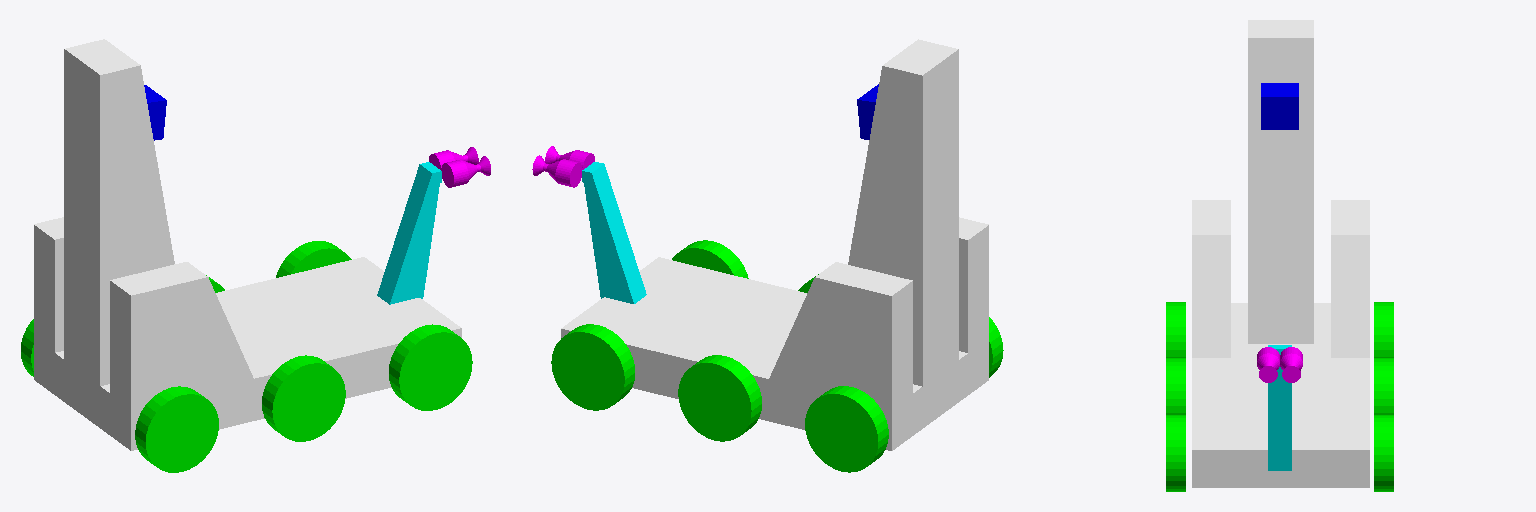
robot.urdf — bosmat_low:
<?xml version="1.0"?>

<robot name="bosmat_low" xmlns:xacro="http://www.ros.org/wiki/xacro">

	<material name="black">
		<color rgba="0 0 0 1"/>
	</material>

	<material name="white">
		<color rgba="1 1 1 1"/>
	</material>

	<material name="red">
		<color rgba="1 0 0 1"/>
	</material>

	<material name="green">
		<color rgba="0 1 0 1"/>
	</material>

	<material name="blue">
		<color rgba="0 0 1 1"/>
	</material>

	<material name="magenta">
		<color rgba="1 0 1 1"/>
	</material>

	<material name="cyan">
		<color rgba="0 1 1 1"/>
	</material>

	<material name="yellow">
		<color rgba="1 1 0 1"/>
	</material>


	<link name="base_link">
		<visual>
			<origin xyz="-0.45 -0.23 -0.05" rpy="1.5707963268 0 1.5707963268" />
			<geometry>
				<mesh filename="package://bosmat_description/meshes/low_detail/robot_base.STL" scale="0.001 0.001 0.001"/>
			</geometry>
			<material name="white"/>
		</visual>

		<collision>
			<origin xyz="-0.45 -0.23 0" rpy="1.5707963268 0 1.5707963268" />
			<geometry>
				<mesh filename="package://bosmat_description/meshes/low_detail/robot_base.STL" scale="0.001 0.001 0.001"/>
			</geometry>
		</collision>

		<inertial>
		  <mass value="10.0"/>
		  <inertia ixx="1.0" iyy="1.0" izz="1.0" ixy="0.0" ixz="0.0" iyz="0.0"/>
		</inertial>
	</link>

	<link name="left_center_wheel">
		<visual>
			<geometry>
				<cylinder length="0.05" radius="0.1"/>
			</geometry>
			<origin rpy="1.5707963268 0 0" xyz="0 0 0"/>
			<material name="green"/>
		</visual>

		<collision>
			<geometry>
				<cylinder length="0.05" radius="0.1"/>
			</geometry>
			<origin rpy="1.5707963268 0 0" xyz="0.23 0 0"/>
		</collision>

		<inertial>
			<mass value="0.5"/>
			<inertia ixx="0.1" iyy="0.1" izz="0.1" ixy="0.0" ixz="0.0" iyz="0.0"/>
		</inertial>
	</link>

	<joint name="left_center_wheel_to_base_link" type="continuous">
		<parent link="base_link"/>
		<child link="left_center_wheel"/>
		<origin xyz="0 0.27 0" rpy="0 0 0"/>
		<axis xyz="0 1 0"/>
	</joint>

    <link name="left_front_wheel">
		<visual>
			<geometry>
				<cylinder length="0.05" radius="0.1"/>
			</geometry>
			<origin rpy="1.5707963268 0 0" xyz="0 0 0"/>
			<material name="green"/>
		</visual>

		<collision>
			<geometry>
				<cylinder length="0.05" radius="0.1"/>
			</geometry>
			<origin rpy="1.5707963268 0 0" xyz="0.23 0 0"/>
		</collision>

		<inertial>
			<mass value="0.5"/>
			<inertia ixx="0.1" iyy="0.1" izz="0.1" ixy="0.0" ixz="0.0" iyz="0.0"/>
		</inertial>
	</link>

    <joint name="left_front_wheel_to_base_link" type="continuous">
		<parent link="base_link"/>
		<child link="left_front_wheel"/>
		<origin xyz="0.345 0.27 0" rpy="0 0 0"/>
		<axis xyz="0 1 0"/>
    </joint>

    <link name="left_back_wheel">
		<visual>
			<geometry>
				<cylinder length="0.05" radius="0.1"/>
			</geometry>
			<origin rpy="1.5707963268 0 0" xyz="0 0 0"/>
			<material name="green"/>
		</visual>

		<collision>
			<geometry>
				<cylinder length="0.05" radius="0.1"/>
			</geometry>
			<origin rpy="1.5707963268 0 0" xyz="0.23 0 0"/>
		</collision>

		<inertial>
			<mass value="0.5"/>
			<inertia ixx="0.1" iyy="0.1" izz="0.1" ixy="0.0" ixz="0.0" iyz="0.0"/>
		</inertial>
	</link>

    <joint name="left_back_wheel_to_base_link" type="continuous">
		<parent link="base_link"/>
		<child link="left_back_wheel"/>
		<origin xyz="-0.345 0.27 0" rpy="0 0 0"/>
		<axis xyz="0 1 0"/>
    </joint>

<link name="right_center_wheel">
		<visual>
			<geometry>
				<cylinder length="0.05" radius="0.1"/>
			</geometry>
			<origin rpy="1.5707963268 0 0" xyz="0 0 0"/>
			<material name="green"/>
		</visual>

		<collision>
			<geometry>
				<cylinder length="0.05" radius="0.1"/>
			</geometry>
			<origin rpy="1.5707963268 0 0" xyz="0.23 0 0"/>
		</collision>

		<inertial>
			<mass value="0.5"/>
			<inertia ixx="0.1" iyy="0.1" izz="0.1" ixy="0.0" ixz="0.0" iyz="0.0"/>
		</inertial>
	</link>

	<joint name="right_center_wheel_to_base_link" type="continuous">
		<parent link="base_link"/>
		<child link="right_center_wheel"/>
		<origin xyz="0 -0.27 0" rpy="0 0 0"/>
		<axis xyz="0 1 0"/>
	</joint>

    <link name="right_front_wheel">
		<visual>
			<geometry>
				<cylinder length="0.05" radius="0.1"/>
			</geometry>
			<origin rpy="1.5707963268 0 0" xyz="0 0 0"/>
			<material name="green"/>
		</visual>

		<collision>
			<geometry>
				<cylinder length="0.05" radius="0.1"/>
			</geometry>
			<origin rpy="1.5707963268 0 0" xyz="0.23 0 0"/>
		</collision>

		<inertial>
			<mass value="0.5"/>
			<inertia ixx="0.1" iyy="0.1" izz="0.1" ixy="0.0" ixz="0.0" iyz="0.0"/>
		</inertial>
	</link>

    <joint name="right_front_wheel_to_base_link" type="continuous">
		<parent link="base_link"/>
		<child link="right_front_wheel"/>
		<origin xyz="0.345 -0.27 0" rpy="0 0 0"/>
		<axis xyz="0 1 0"/>
    </joint>

    <link name="right_back_wheel">
		<visual>
			<geometry>
				<cylinder length="0.05" radius="0.1"/>
			</geometry>
			<origin rpy="1.5707963268 0 0" xyz="0 0 0"/>
			<material name="green"/>
		</visual>

		<collision>
			<geometry>
				<cylinder length="0.05" radius="0.1"/>
			</geometry>
			<origin rpy="1.5707963268 0 0" xyz="0.23 0 0"/>
		</collision>

		<inertial>
			<mass value="0.5"/>
			<inertia ixx="0.1" iyy="0.1" izz="0.1" ixy="0.0" ixz="0.0" iyz="0.0"/>
		</inertial>
	</link>

    <joint name="right_back_wheel_to_base_link" type="continuous">
		<parent link="base_link"/>
		<child link="right_back_wheel"/>
		<origin xyz="-0.345 -0.27 0" rpy="0 0 0"/>
		<axis xyz="0 1 0"/>
    </joint>

	<link name="shiri_body">
		<visual>
			<origin xyz="0 -0.03 0" rpy="1.5707963268 0 1.5707963268" />
			<geometry>
				<mesh filename="package://bosmat_description/meshes/low_detail/shiri_body_low_detail.STL"/>
			</geometry>
			<material name="cyan"/>
		</visual>

		<inertial>
			<mass value="2.0"/>
			<inertia ixx="0.1" iyy="0.1" izz="0.1" ixy="0.0" ixz="0.0" iyz="0.0"/>
		</inertial>
	</link>

    <joint name="shiri_body_to_base_link" type="prismatic">
		<parent link="base_link"/>
		<child link="shiri_body"/>
		<origin xyz="0.35 0 0" rpy="0 0 0"/>
		<limit effort="1000.0" velocity="1.0" lower="-0.2" upper="0"/>
		<axis xyz="1 0 0"/>
    </joint>

	<link name="shiri_left_finger">
		<visual>
			<origin xyz="0.105 -0.03 -0.03" rpy="0 -1.5707963268 0" />
			<geometry>
				<mesh filename="package://bosmat_description/meshes/low_detail/shiri_finger_low_detail.STL"/>
			</geometry>
			<material name="magenta"/>
		</visual>

		<collision>
			<geometry>
				<mesh filename="package://bosmat_description/meshes/low_detail/shiri_finger_low_detail.STL"/>
			</geometry>
			<origin xyz="0.105 -0.03 -0.03" rpy="0 -1.5707963268 0" />
		</collision>

		<inertial>
		  <mass value="0.1"/>
		  <inertia ixx="0.01" iyy="0.01" izz="0.01" ixy="0.0" ixz="0.0" iyz="0.0"/>
		</inertial>
	</link>

    <joint name="shiri_left_finger_to_body" type="prismatic">
		<parent link="shiri_body"/>
		<child link="shiri_left_finger"/>
		<origin xyz="0.18 0.03 0.36" rpy="0 0 0"/>
		<limit effort="1000.0" velocity="1.0" lower="0" upper="0.03"/>
		<axis xyz="0 1 0"/>
    </joint>

	<link name="shiri_right_finger">
		<visual>
			<origin xyz="0.105 -0.03 -0.03" rpy="0 -1.5707963268 0" />
			<geometry>
				<mesh filename="package://bosmat_description/meshes/low_detail/shiri_finger_low_detail.STL"/>
			</geometry>
			<material name="magenta"/>
		</visual>

		<collision>
			<geometry>
				<mesh filename="package://bosmat_description/meshes/low_detail/shiri_finger_low_detail.STL"/>
			</geometry>
			<origin xyz="0.105 -0.03 -0.03" rpy="0 -1.5707963268 0" />
		</collision>

		<inertial>
		  <mass value="0.1"/>
		  <inertia ixx="0.01" iyy="0.01" izz="0.01" ixy="0.0" ixz="0.0" iyz="0.0"/>
		</inertial>
	</link>

    <joint name="shiri_right_finger_to_body" type="prismatic">
		<parent link="shiri_body"/>
		<child link="shiri_right_finger"/>
		<origin xyz="0.18 -0.03 0.36" rpy="3.1415926536 0 0"/>
		<limit effort="1000.0" velocity="1.0" lower="0" upper="0.03"/>
		<axis xyz="0 1 0"/>
    </joint>

	<link name="astra_camera">
		<visual>
			<origin xyz="0 0 0" rpy="-1.5707963268 0 1.5707963268" />
			<geometry>
				<box size="0.1 0.1 0.1"/>
			</geometry>
			<material name="blue"/>
		</visual>

		<inertial>
		  <mass value="0.1"/>
		  <inertia ixx="0.01" iyy="0.01" izz="0.01" ixy="0.0" ixz="0.0" iyz="0.0"/>
		</inertial>
	</link>

    <joint name="astra_camera_to_base_link" type="fixed">
		<parent link="base_link"/>
		<child link="astra_camera"/>
		<origin xyz="-0.3 0 0.7" rpy="-1.6707963268 0 -1.5707963268"/>
    </joint>

<!-- gazebo pluings -->

<!--
<gazebo reference="base_link">
  <mu1>0.5</mu1>
  <mu2>0.5</mu2>
  <material>Gazebo/White</material>
</gazebo>

<gazebo reference="left_back_wheel">
  <mu1>1</mu1>
  <mu2>1</mu2>
  <kp>100.0</kp>
  <kd>100.0</kd>
  <minDepth>0.001</minDepth>
  <maxVel>1</maxVel>
  <material>Gazebo/Black</material>
</gazebo>

<gazebo reference="left_center_wheel">
  <mu1>1</mu1>
  <mu2>1</mu2>
  <kp>100.0</kp>
  <kd>100.0</kd>
  <minDepth>0.001</minDepth>
  <maxVel>1</maxVel>
  <material>Gazebo/Black</material>
</gazebo>

<gazebo reference="left_front_wheel">
  <mu1>1</mu1>
  <mu2>1</mu2>
  <kp>100.0</kp>
  <kd>100.0</kd>
  <minDepth>0.001</minDepth>
  <maxVel>1</maxVel>
  <material>Gazebo/Black</material>
</gazebo>

<gazebo reference="right_front_wheel">
  <mu1>1</mu1>
  <mu2>1</mu2>
  <kp>100.0</kp>
  <kd>100.0</kd>
  <minDepth>0.001</minDepth>
  <maxVel>1</maxVel>
  <material>Gazebo/Black</material>
</gazebo>

<gazebo reference="right_center_wheel">
  <mu1>1</mu1>
  <mu2>1</mu2>
  <kp>100.0</kp>
  <kd>100.0</kd>
  <minDepth>0.001</minDepth>
  <maxVel>1</maxVel>
  <material>Gazebo/Black</material>
</gazebo>

<gazebo reference="right_back_wheel">
  <mu1>1</mu1>
  <mu2>1</mu2>
  <kp>100.0</kp>
  <kd>100.0</kd>
  <minDepth>0.001</minDepth>
  <maxVel>1</maxVel>
  <material>Gazebo/Black</material>
</gazebo> 

<gazebo reference="left_back_wheel_to_base_link">
  <mu1>1</mu1>
  <mu2>1</mu2>
  <kp>100.0</kp>
  <kd>100.0</kd>
  <minDepth>0.001</minDepth>
  <maxVel>1</maxVel>
  <material>Gazebo/Black</material>
</gazebo>

<gazebo reference="left_center_wheel_to_base_link">
  <mu1>1</mu1>
  <mu2>1</mu2>
  <kp>100.0</kp>
  <kd>100.0</kd>
  <minDepth>0.001</minDepth>
  <maxVel>1</maxVel>
  <material>Gazebo/Black</material>
</gazebo>

<gazebo reference="left_front_wheel_to_base_link">
  <mu1>1</mu1>
  <mu2>1</mu2>
  <kp>100.0</kp>
  <kd>100.0</kd>
  <minDepth>0.001</minDepth>
  <maxVel>1</maxVel>
  <material>Gazebo/Black</material>
</gazebo>

<gazebo reference="right_front_wheel_to_base_link">
  <mu1>1</mu1>
  <mu2>1</mu2>
  <kp>100.0</kp>
  <kd>100.0</kd>
  <minDepth>0.001</minDepth>
  <maxVel>1</maxVel>
  <material>Gazebo/Black</material>
</gazebo>

<gazebo reference="right_center_wheel_to_base_link">
  <mu1>1</mu1>
  <mu2>1</mu2>
  <kp>100.0</kp>
  <kd>100.0</kd>
  <minDepth>0.001</minDepth>
  <maxVel>1</maxVel>
  <material>Gazebo/Black</material>
</gazebo>

<gazebo reference="right_back_wheel_to_base_link">
  <mu1>1</mu1>
  <mu2>1</mu2>
  <kp>100.0</kp>
  <kd>100.0</kd>
  <minDepth>0.001</minDepth>
  <maxVel>1</maxVel>
  <material>Gazebo/Black</material>
</gazebo>

-->

<gazebo>
  <plugin name="center_differential_drive_controller" filename="libgazebo_ros_diff_drive.so">
    <legacyMode>false</legacyMode>
    <publishTf>1</publishTf>
    <publishWheelTF>true</publishWheelTF>
    <publishWheelJointState>true</publishWheelJointState>
    <alwaysOn>true</alwaysOn>
    <updateRate>50</updateRate>
    <leftJoint>left_center_wheel_to_base_link </leftJoint>
    <rightJoint>right_center_wheel_to_base_link</rightJoint>
    <wheelSeparation>0.52</wheelSeparation>
    <wheelDiameter>0.1</wheelDiameter>
    <wheelTorque>10</wheelTorque>
    <wheelAcceleration>3</wheelAcceleration>
    <commandTopic>/cmd_vel</commandTopic>
    <odometryTopic>/odom</odometryTopic>
    <odometryFrame>/odom</odometryFrame>
    <robotBaseFrame>base_link</robotBaseFrame>
  </plugin>

</gazebo>
<!-- <gazebo>
  <plugin name="front_differential_drive_controller" filename="libgazebo_ros_diff_drive.so">
    <legacyMode>false</legacyMode>
    <publishTf>1</publishTf>
    <publishWheelTF>true</publishWheelTF>
    <publishWheelJointState>true</publishWheelJointState>
    <alwaysOn>true</alwaysOn>
    <updateRate>50</updateRate>
    <leftJoint>left_front_wheel_to_base_link </leftJoint>
    <rightJoint>right_front_wheel_to_base_link</rightJoint>
    <wheelSeparation>0.52</wheelSeparation>
    <wheelDiameter>0.1</wheelDiameter>
    <wheelTorque>1</wheelTorque>
    <wheelAcceleration>3</wheelAcceleration>
    <commandTopic>/cmd_vel</commandTopic>
    <odometryTopic>/odom</odometryTopic>
    <odometryFrame>/odom</odometryFrame>
    <robotBaseFrame>base_link</robotBaseFrame>
    </plugin>

</gazebo> 
<gazebo>
  <plugin name="back_differential_drive_controller" filename="libgazebo_ros_diff_drive.so">
    <legacyMode>false</legacyMode>
    <publishTf>1</publishTf>
    <publishWheelTF>true</publishWheelTF>
    <publishWheelJointState>true</publishWheelJointState>
    <alwaysOn>true</alwaysOn>
    <updateRate>50</updateRate>
    <leftJoint>left_back_wheel_to_base_link </leftJoint>
    <rightJoint>right_back_wheel_to_base_link</rightJoint>
    <wheelSeparation>0.52</wheelSeparation>
    <wheelDiameter>0.1</wheelDiameter>
    <wheelTorque>10</wheelTorque>
    <wheelAcceleration>3</wheelAcceleration>
    <commandTopic>/cmd_vel</commandTopic>
    <odometryTopic>/odom</odometryTopic>
    <odometryFrame>/odom</odometryFrame>
    <robotBaseFrame>base_link</robotBaseFrame>
  </plugin>
</gazebo>

-->



</robot>

--- Facts derived from the render (not from the file) ---
Views: 3 orthographic renders of the robot side by side, from view 1: azimuth 30°, elevation 25°; view 2: azimuth 150°, elevation 25°; view 3: azimuth 270°, elevation 25°.
Robot: bosmat_low — 11 links, 10 joints (6 continuous, 3 prismatic, 1 fixed); root link base_link; default pose: every joint at zero.
Links seen in each view (by area): view 1: base_link, right_back_wheel, right_front_wheel, right_center_wheel, shiri_body, left_front_wheel, shiri_right_finger, astra_camera, shiri_left_finger, left_back_wheel; view 2: base_link, left_center_wheel, left_back_wheel, left_front_wheel, shiri_body, right_front_wheel, shiri_left_finger, astra_camera, right_back_wheel, shiri_right_finger; view 3: base_link, shiri_body, astra_camera, left_front_wheel, right_front_wheel, left_center_wheel, right_center_wheel, left_back_wheel, right_back_wheel, shiri_left_finger, shiri_right_finger.
Link boxes in pixels (x1,y1,x2,y2): base_link: (34,39,461,450); right_back_wheel: (135,386,218,472); right_front_wheel: (389,324,472,410); right_center_wheel: (262,355,345,441); shiri_body: (377,162,441,304); left_front_wheel: (276,241,351,277); shiri_right_finger: (441,156,490,187); astra_camera: (144,85,166,140); shiri_left_finger: (429,147,478,169); left_back_wheel: (21,319,33,376); base_link: (561,39,988,450); left_center_wheel: (678,355,761,441); left_back_wheel: (805,386,888,472); left_front_wheel: (551,324,634,410); shiri_body: (582,162,646,303); right_front_wheel: (672,240,748,278); shiri_left_finger: (532,155,582,187); astra_camera: (857,84,878,139); right_back_wheel: (989,317,1003,377); shiri_right_finger: (545,146,594,169); base_link: (1192,20,1369,487); shiri_body: (1268,345,1291,470); astra_camera: (1261,83,1298,129); left_front_wheel: (1374,415,1393,491); right_front_wheel: (1166,415,1185,491); left_center_wheel: (1374,358,1393,414); right_center_wheel: (1166,358,1185,414); left_back_wheel: (1374,302,1393,357); right_back_wheel: (1166,302,1185,357); shiri_left_finger: (1280,347,1302,382); shiri_right_finger: (1257,347,1279,382).
Bounding box of the posed robot: 1.08 × 0.59 × 0.9696 m (x, y, z).
Meshes: 3 distinct files referenced, 4 mesh visuals loaded (3 binary STL).
